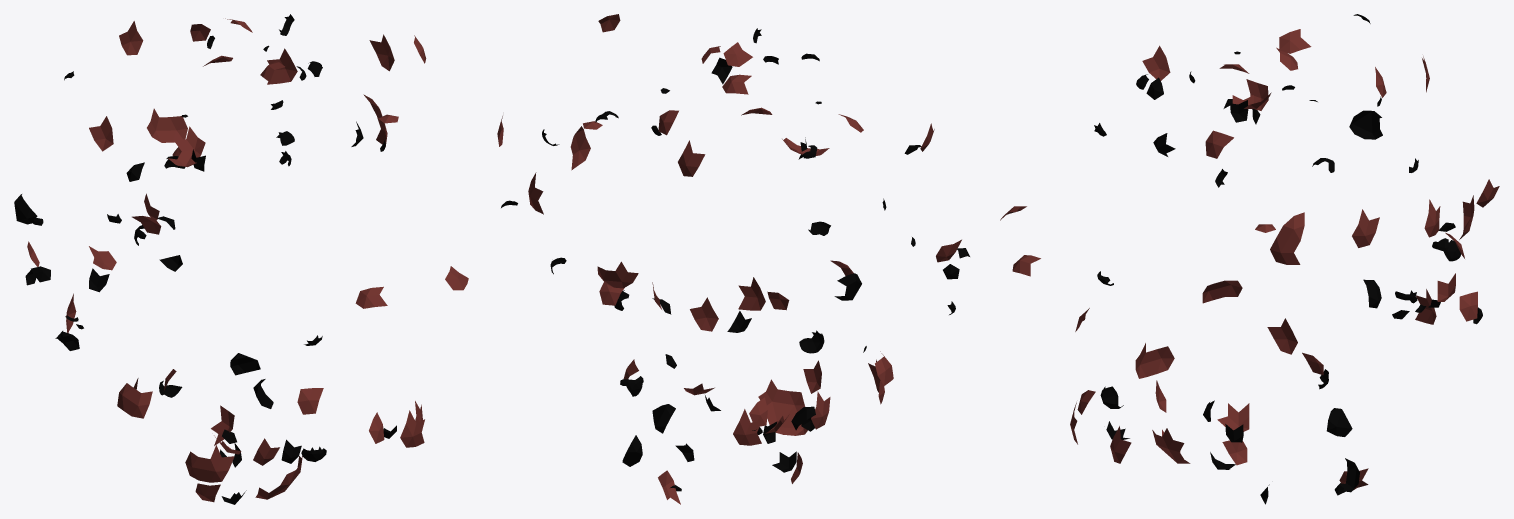
Rendered from explode.f0028.glb.
3 renders of one model, left to right at view 1: azimuth 30°, elevation 25°; view 2: azimuth 150°, elevation 25°; view 3: azimuth 270°, elevation 25°, orthographic. The views are drawn at different scales.
Visible parts, largest first — view 1: Body.001; view 2: Body.001; view 3: Body.001.
Part boxes in pixels (box(x1,y1,x2,y2)): Body.001: box(14, 14, 468, 504); Body.001: box(497, 14, 969, 504); Body.001: box(1000, 14, 1499, 504).
Size of the model in its own units: 11.36 by 11.7 by 11.63.
Materials: 1 (1 with a texture image).
